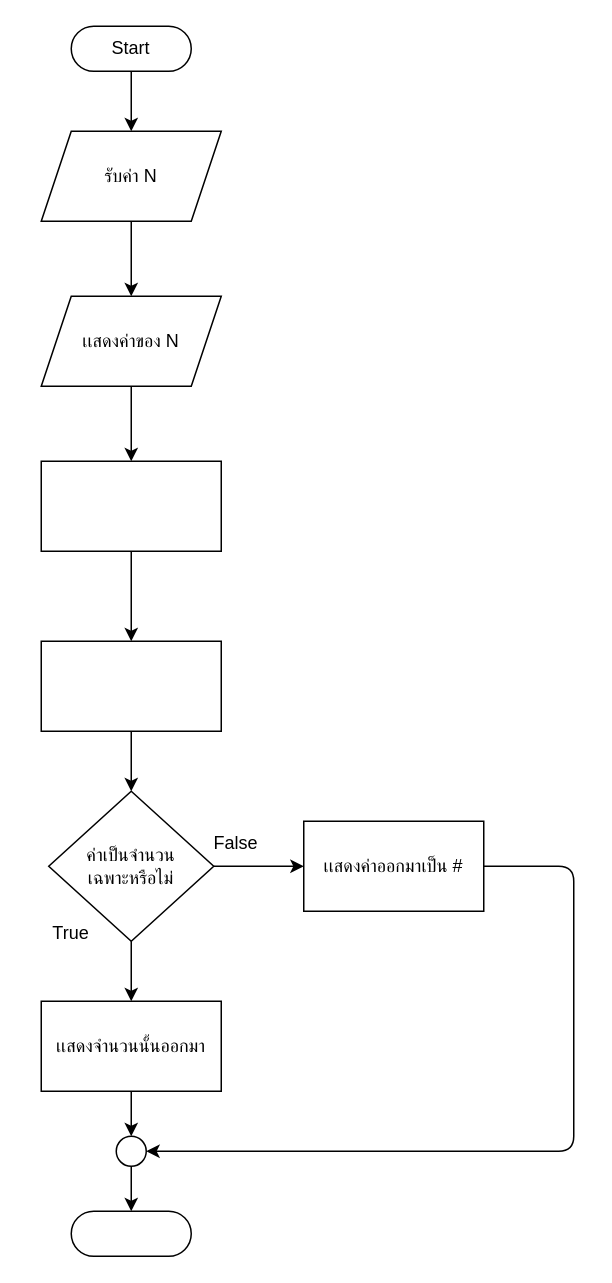
Image size: 612x1283. Some labels were removed from this diagram. Each missing label, with the box of its shape:
End: (70, 1210, 191, 1256)
รับค่าเข้า Array: (40, 460, 221, 551)
เเสดง Index: (40, 640, 221, 731)
